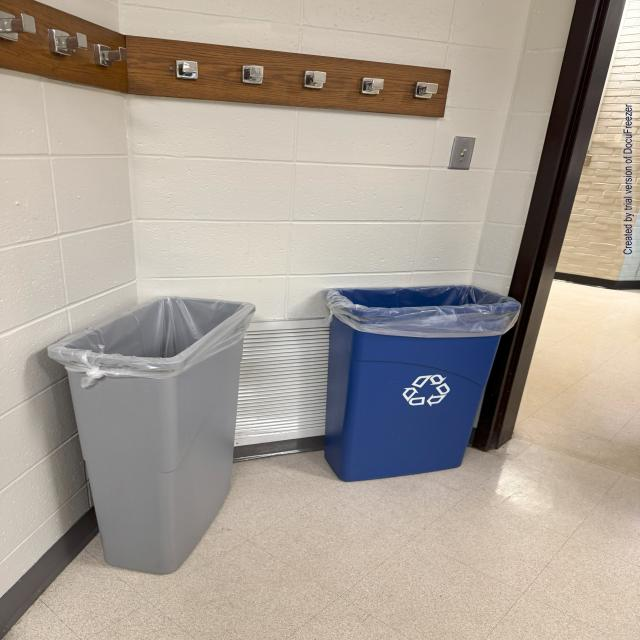Trash bin: (39, 270, 262, 576), (306, 279, 498, 485)
